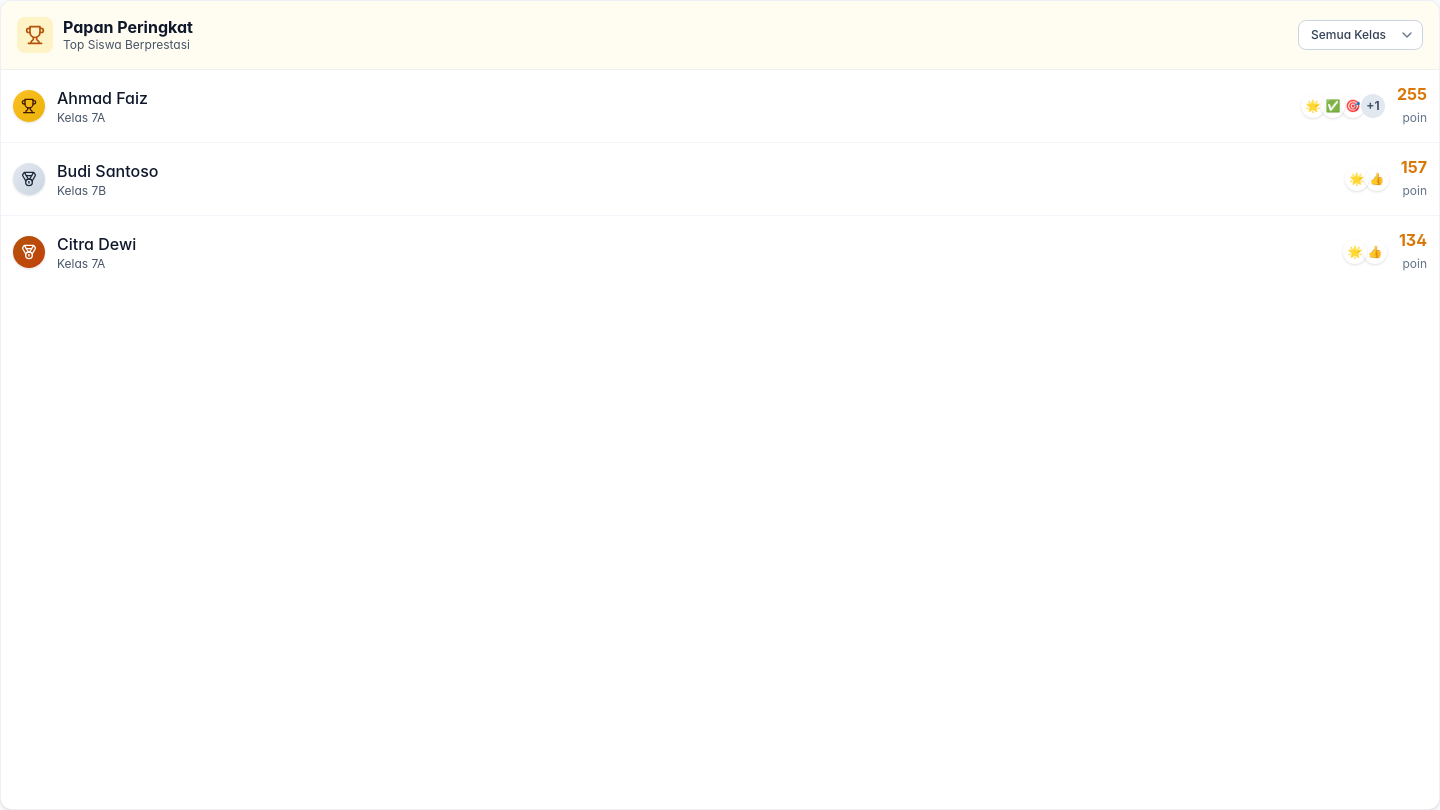
LeaderboardCard › shows empty message when class filter has no students
This screenshot has width=1440, height=810.
Select "Kelas Kosong" in the dropdown. click: (1360, 35)
box: [1298, 20, 1423, 50]
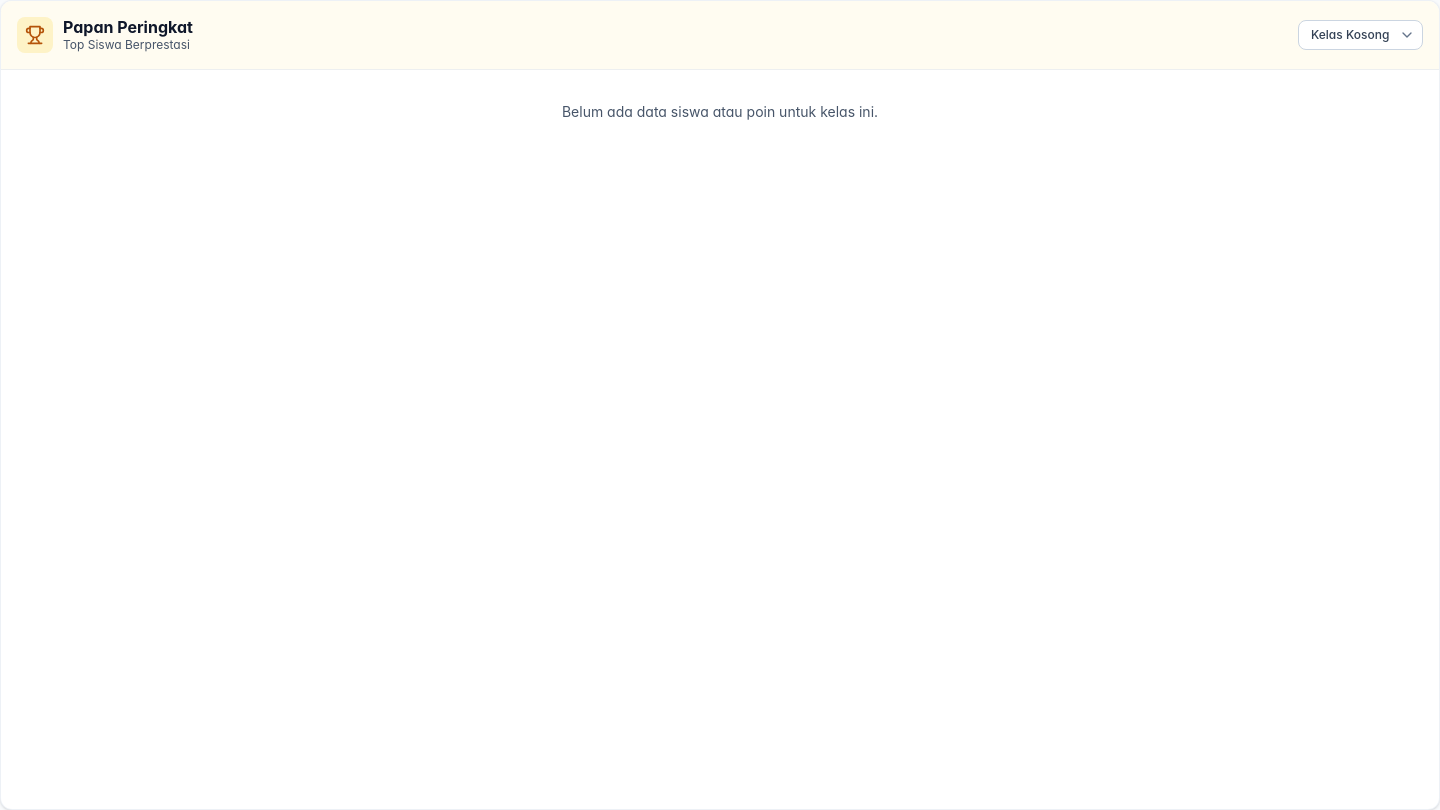
Check: the text "Belum ada data siswa atau poin untuk kelas ini." is shown, box [562, 103, 878, 120]
